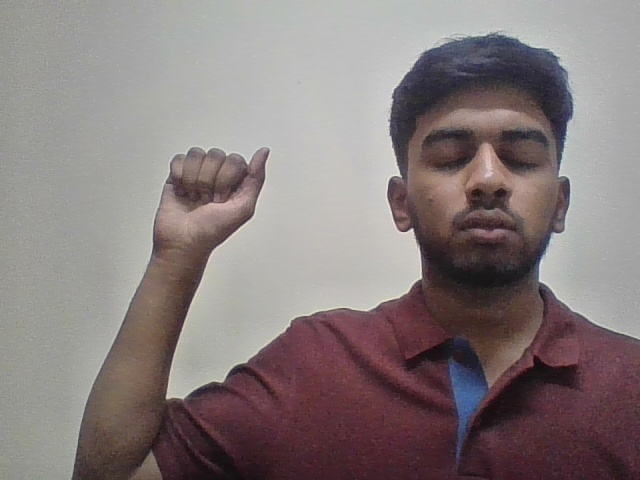A: (131, 130, 285, 282)
